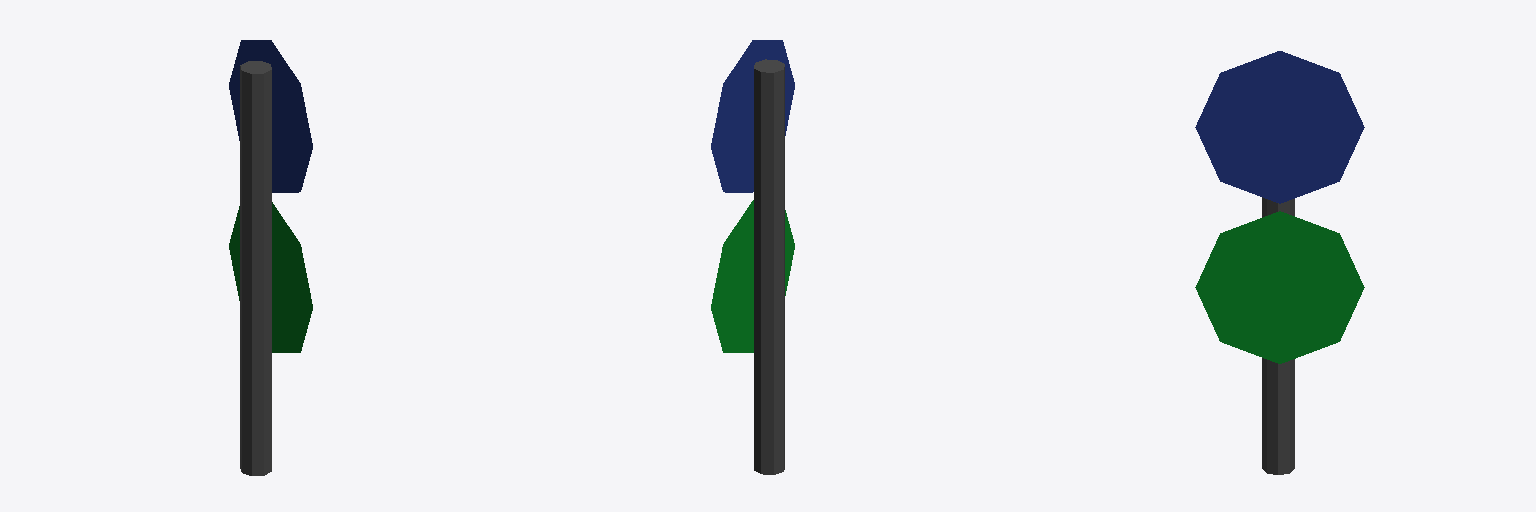
The picture shows the model from 3 angles: view 1: azimuth 30°, elevation 25°; view 2: azimuth 150°, elevation 25°; view 3: azimuth 270°, elevation 25°; orthographic projection.
Visible parts, largest first — view 1: Объект_Цилиндр, Объект_Диск, Объект_Диск.1; view 2: Объект_Цилиндр, Объект_Диск, Объект_Диск.1; view 3: Объект_Диск, Объект_Диск.1, Объект_Цилиндр.
Boxes of the visible parts, <box> form: Объект_Цилиндр: <box>240,61,271,475</box>; Объект_Диск: <box>229,40,312,192</box>; Объект_Диск.1: <box>229,202,312,352</box>; Объект_Цилиндр: <box>754,59,784,474</box>; Объект_Диск: <box>711,40,794,192</box>; Объект_Диск.1: <box>711,200,794,352</box>; Объект_Диск: <box>1195,51,1364,203</box>; Объект_Диск.1: <box>1195,211,1364,363</box>; Объект_Цилиндр: <box>1262,197,1294,474</box>.
Bounding box in the file's own units: 6.39 × 86.89 × 31.34.